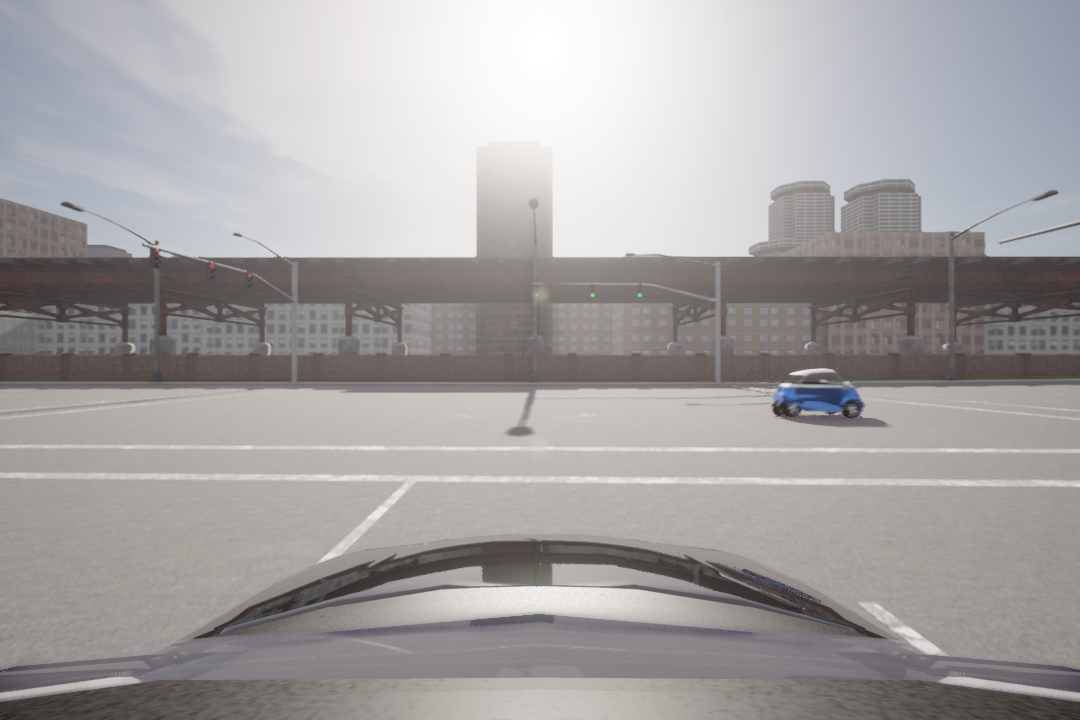TrafficLight: (150, 246, 162, 268), (243, 269, 254, 290), (206, 261, 216, 281), (588, 281, 596, 303), (635, 281, 644, 300)
